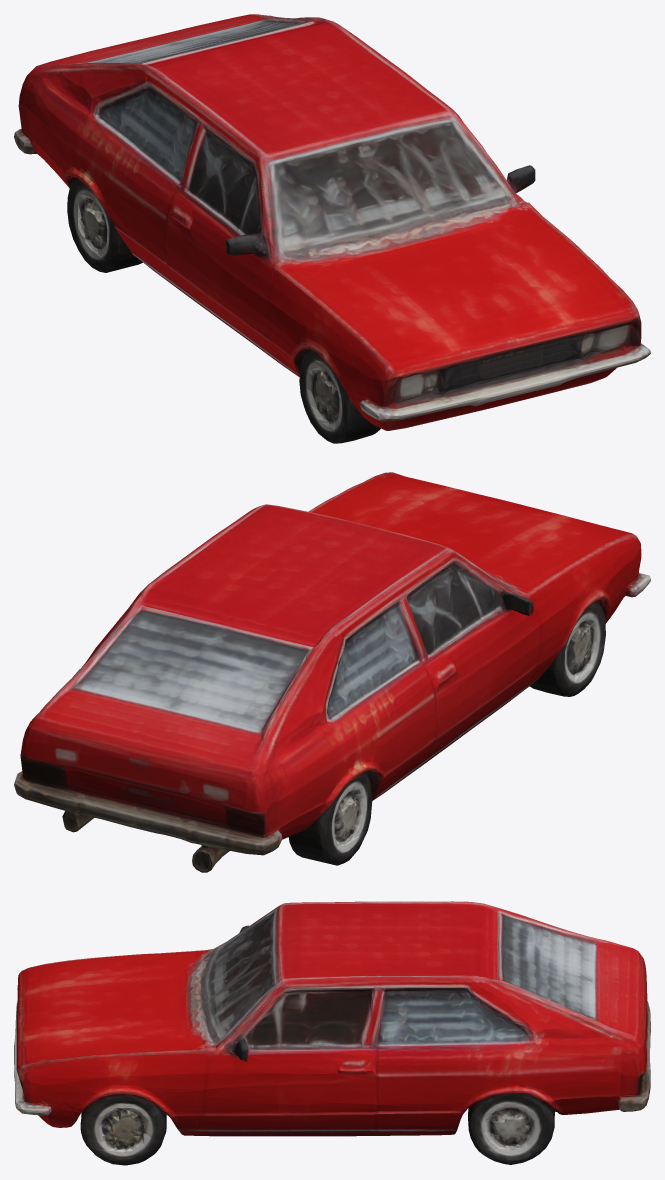
3 views of the same model, one above another, from view 1: azimuth 30°, elevation 25°; view 2: azimuth 150°, elevation 25°; view 3: azimuth 270°, elevation 25° (orthographic). The views are drawn at different scales.
Parts seen in each view (by area): view 1: world; view 2: world; view 3: world.
Boxes of the visible parts, left/top/right/bottom form: world: left=14, top=14, right=650, bottom=443; world: left=14, top=472, right=650, bottom=872; world: left=14, top=901, right=650, bottom=1165.
Size of the model in its own units: 0.458 by 0.3034 by 0.9939.
1 material, 1 textured.
